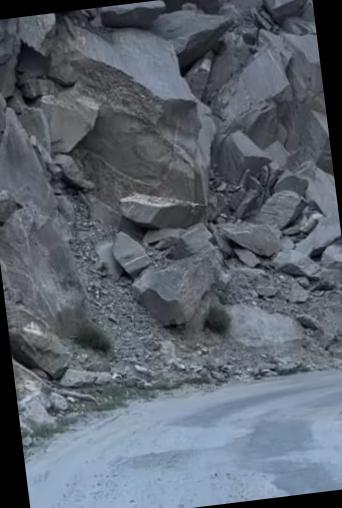left_turn: (45, 295, 342, 508)
